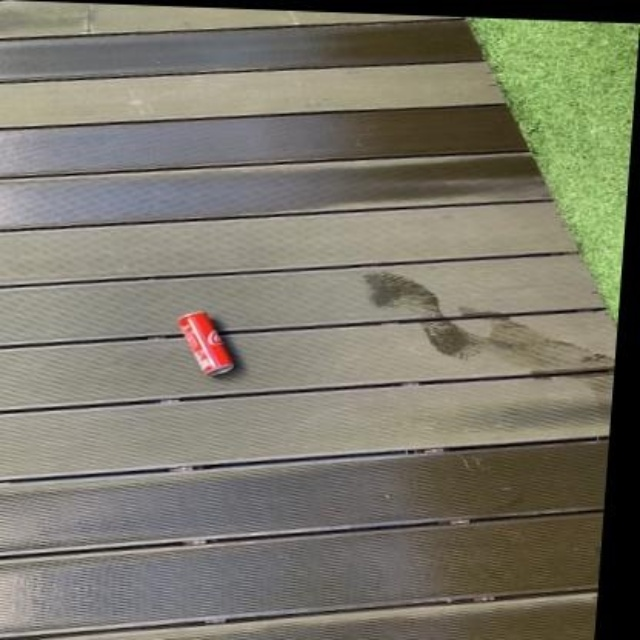trash: (178, 311, 232, 374)
